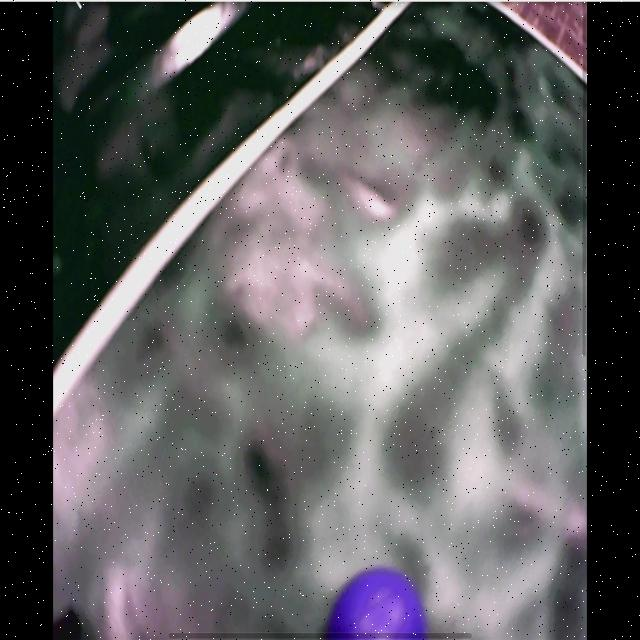ball: (327, 570, 430, 640)
